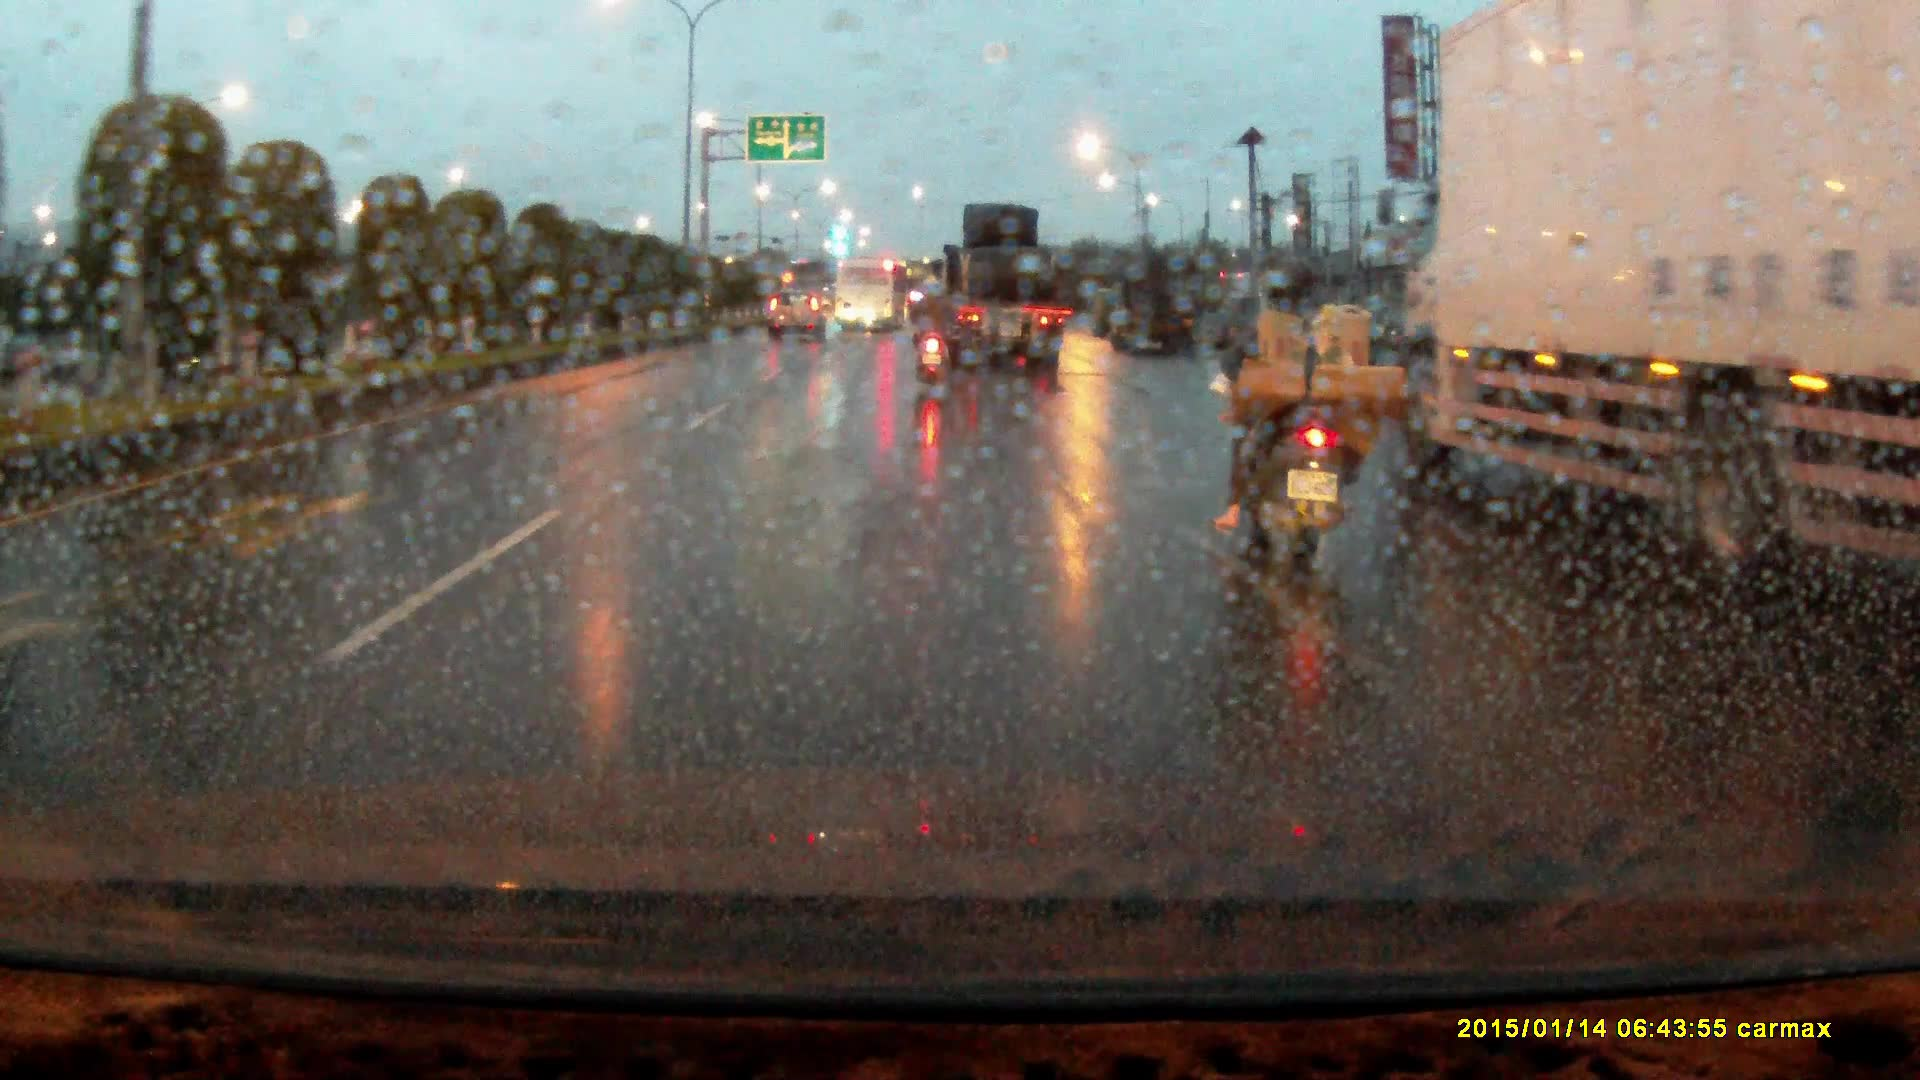rider: (1208, 253, 1413, 586), (911, 283, 954, 394)
vehicle: (1394, 1, 1920, 572), (920, 202, 1062, 370), (1115, 261, 1198, 357), (836, 259, 906, 332), (769, 290, 826, 341), (1091, 286, 1126, 335)
